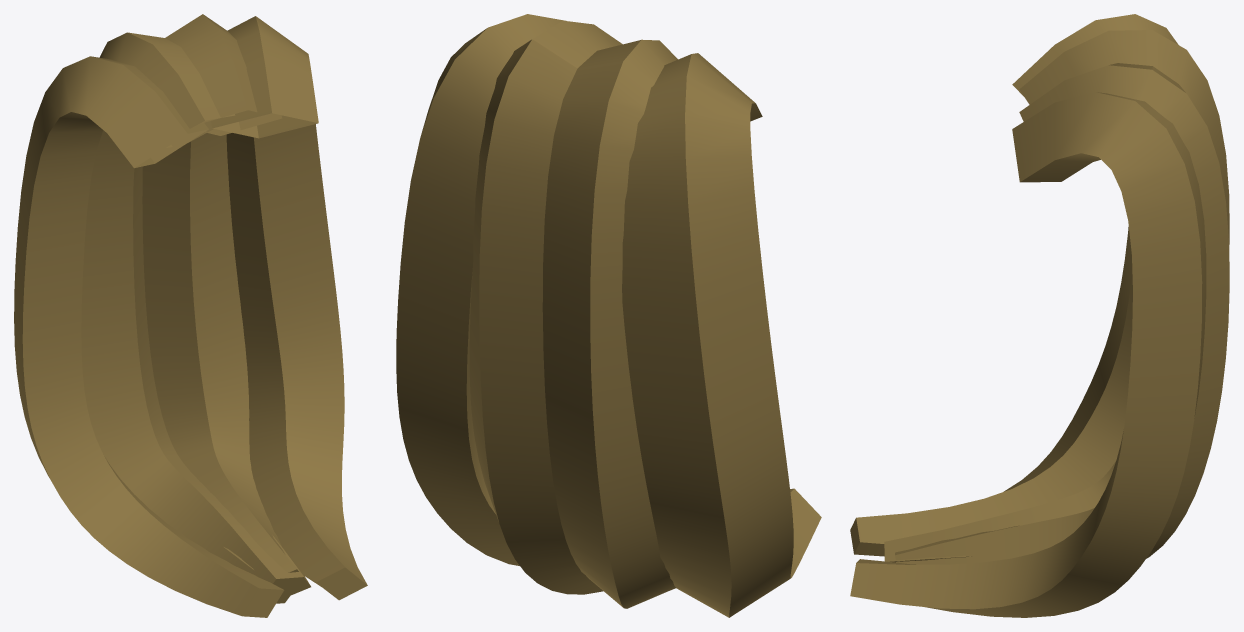
File: Body_004.fbx
3 views of the same model, side by side, from view 1: azimuth 30°, elevation 25°; view 2: azimuth 150°, elevation 25°; view 3: azimuth 270°, elevation 25° (orthographic). The views are drawn at different scales.
Visible parts, largest first — view 1: Body.004; view 2: Body.004; view 3: Body.004.
Part boxes in pixels (left/top/right/bottom): Body.004: left=14, top=14, right=367, bottom=617; Body.004: left=396, top=14, right=821, bottom=617; Body.004: left=850, top=14, right=1229, bottom=617.
Size of the model in its own units: 62.66 by 94.89 by 60.86.
